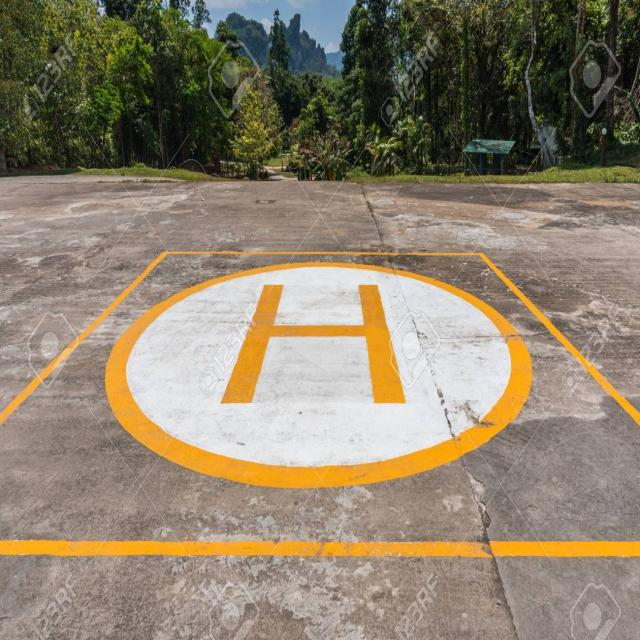helipad: (99, 255, 536, 494)
